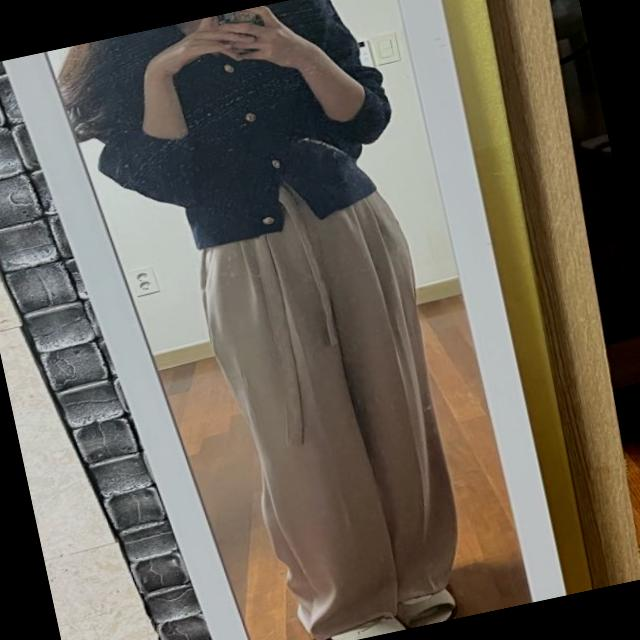cardigan: (73, 0, 412, 263)
slacks: (176, 164, 484, 640)
